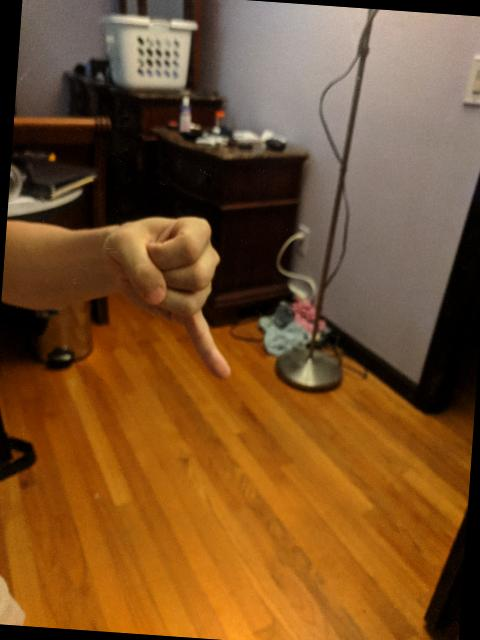J: (100, 206, 247, 385)
